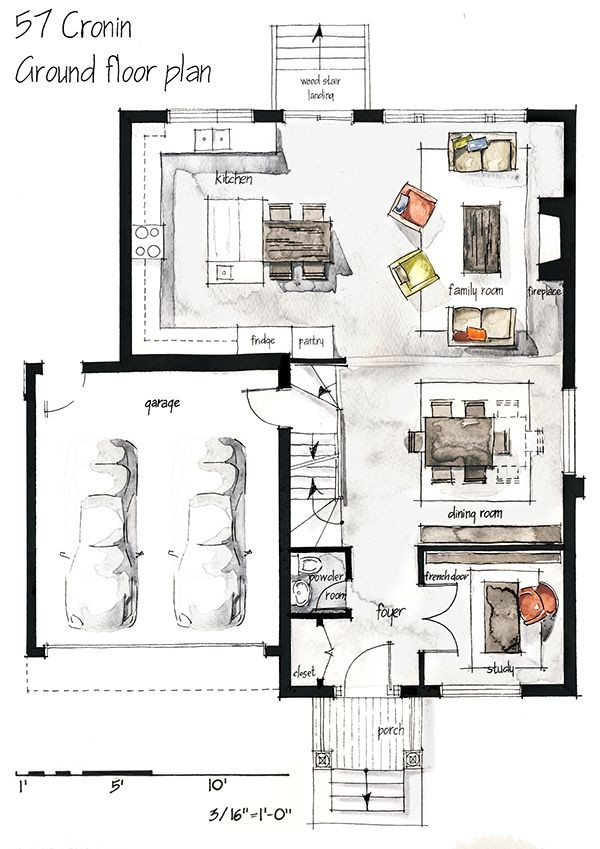door: (342, 630, 407, 702), (416, 580, 463, 656), (249, 388, 301, 434)
room: (101, 98, 584, 382), (280, 355, 589, 702), (15, 356, 304, 706)
wall: (20, 362, 46, 659), (276, 429, 301, 694), (114, 103, 138, 354), (411, 534, 575, 567), (559, 119, 578, 381), (560, 477, 581, 695), (76, 356, 293, 375), (347, 100, 388, 130), (247, 102, 288, 130), (521, 104, 577, 124), (395, 681, 440, 694)
window: (380, 98, 523, 129), (278, 98, 360, 138), (434, 671, 527, 702), (163, 99, 258, 129), (562, 382, 590, 469)
